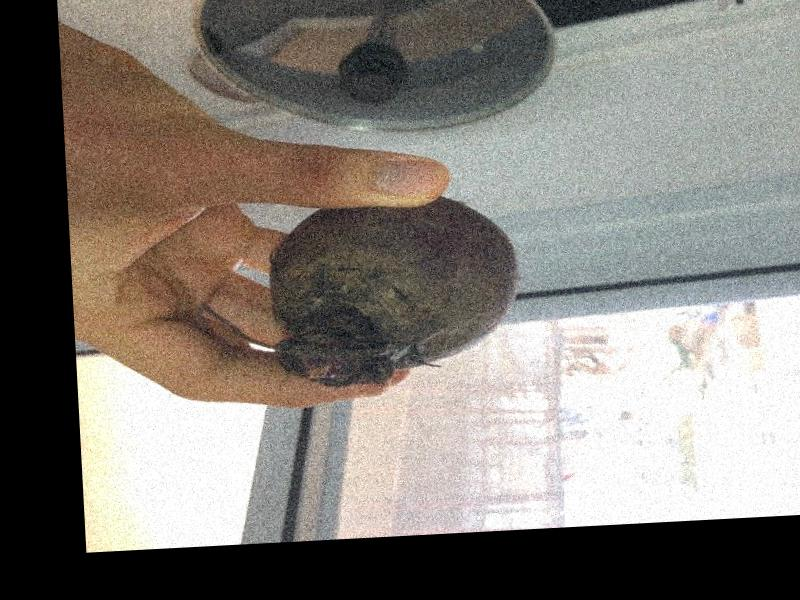Beet: (193, 190, 524, 394)
